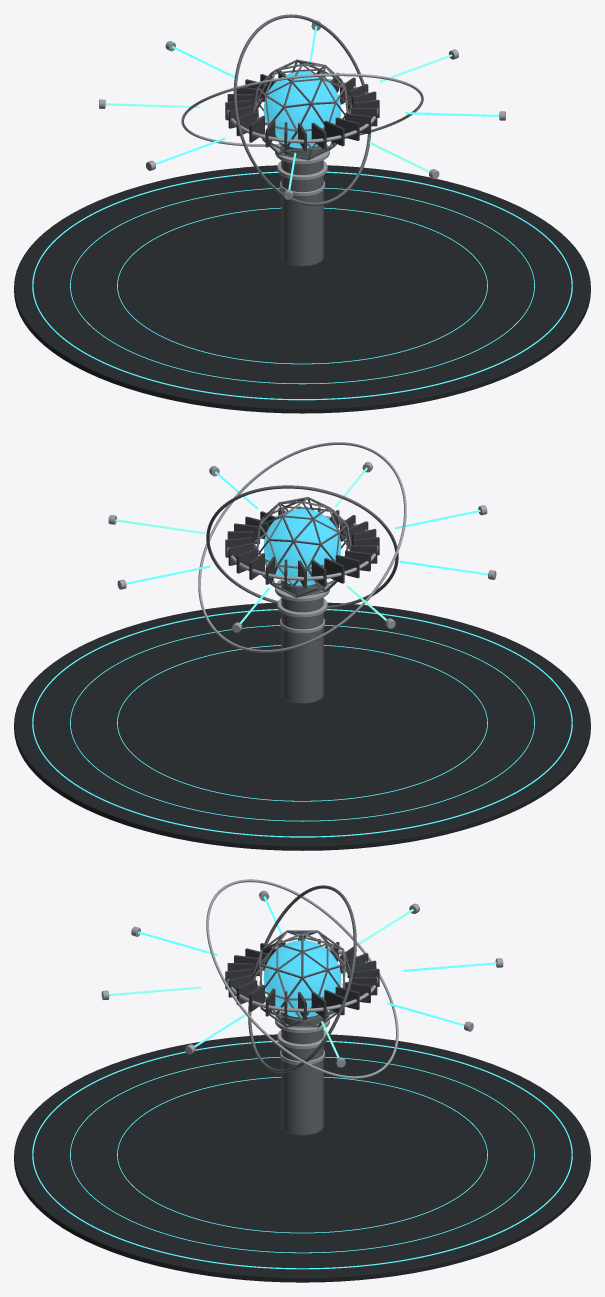
Rendered from prime_core.glb.
The picture shows the model from 3 angles, top to bottom: view 1: azimuth 30°, elevation 25°; view 2: azimuth 150°, elevation 25°; view 3: azimuth 270°, elevation 25°; orthographic projection.
Parts seen in each view (by area): view 1: BasePlate, Hub, Core, CoreShell, BaseRing_0, RingB, RingC, BaseRing_1, BaseRing_2, RingA; view 2: BasePlate, Hub, Core, CoreShell, BaseRing_0, RingC, RingB, BaseRing_1, BaseRing_2, RingA; view 3: BasePlate, Hub, Core, CoreShell, BaseRing_0, RingC, RingB, BaseRing_1, BaseRing_2, RingA.
Part boxes in pixels (bbox=[...]): BasePlate: bbox=[14, 165, 590, 413]; Hub: bbox=[281, 143, 323, 266]; Core: bbox=[263, 71, 341, 148]; CoreShell: bbox=[253, 59, 352, 160]; BaseRing_0: bbox=[32, 171, 572, 400]; RingB: bbox=[233, 14, 371, 205]; RingC: bbox=[181, 73, 423, 146]; BaseRing_1: bbox=[70, 187, 534, 384]; BaseRing_2: bbox=[117, 207, 487, 364]; RingA: bbox=[226, 78, 378, 143]; BasePlate: bbox=[14, 602, 590, 850]; Hub: bbox=[281, 580, 323, 703]; Core: bbox=[263, 508, 341, 585]; CoreShell: bbox=[252, 497, 351, 597]; BaseRing_0: bbox=[32, 609, 572, 837]; RingC: bbox=[198, 442, 406, 652]; RingB: bbox=[206, 485, 398, 608]; BaseRing_1: bbox=[70, 625, 534, 821]; BaseRing_2: bbox=[117, 645, 487, 801]; RingA: bbox=[226, 515, 378, 580]; BasePlate: bbox=[14, 1034, 590, 1282]; Hub: bbox=[281, 1012, 323, 1135]; Core: bbox=[263, 940, 341, 1017]; CoreShell: bbox=[252, 930, 350, 1027]; BaseRing_0: bbox=[32, 1040, 572, 1269]; RingC: bbox=[206, 879, 398, 1078]; RingB: bbox=[248, 885, 356, 1072]; BaseRing_1: bbox=[70, 1057, 534, 1253]; BaseRing_2: bbox=[117, 1077, 487, 1233]; RingA: bbox=[226, 948, 378, 1012].
Bounding box in the file's own units: 9.2 × 4.59 × 9.2.
